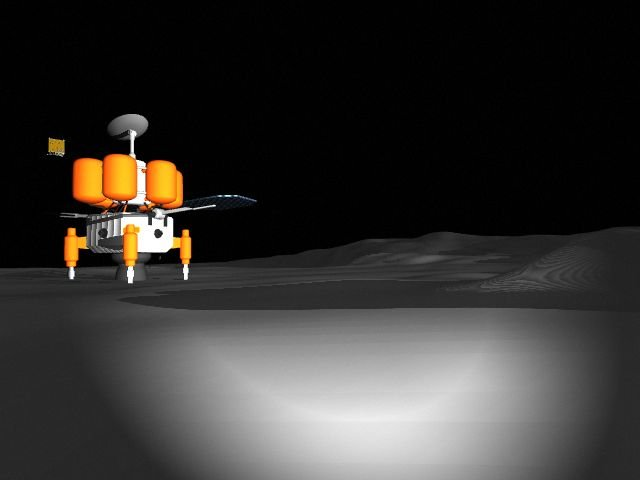cubesat: (40, 134, 68, 160)
